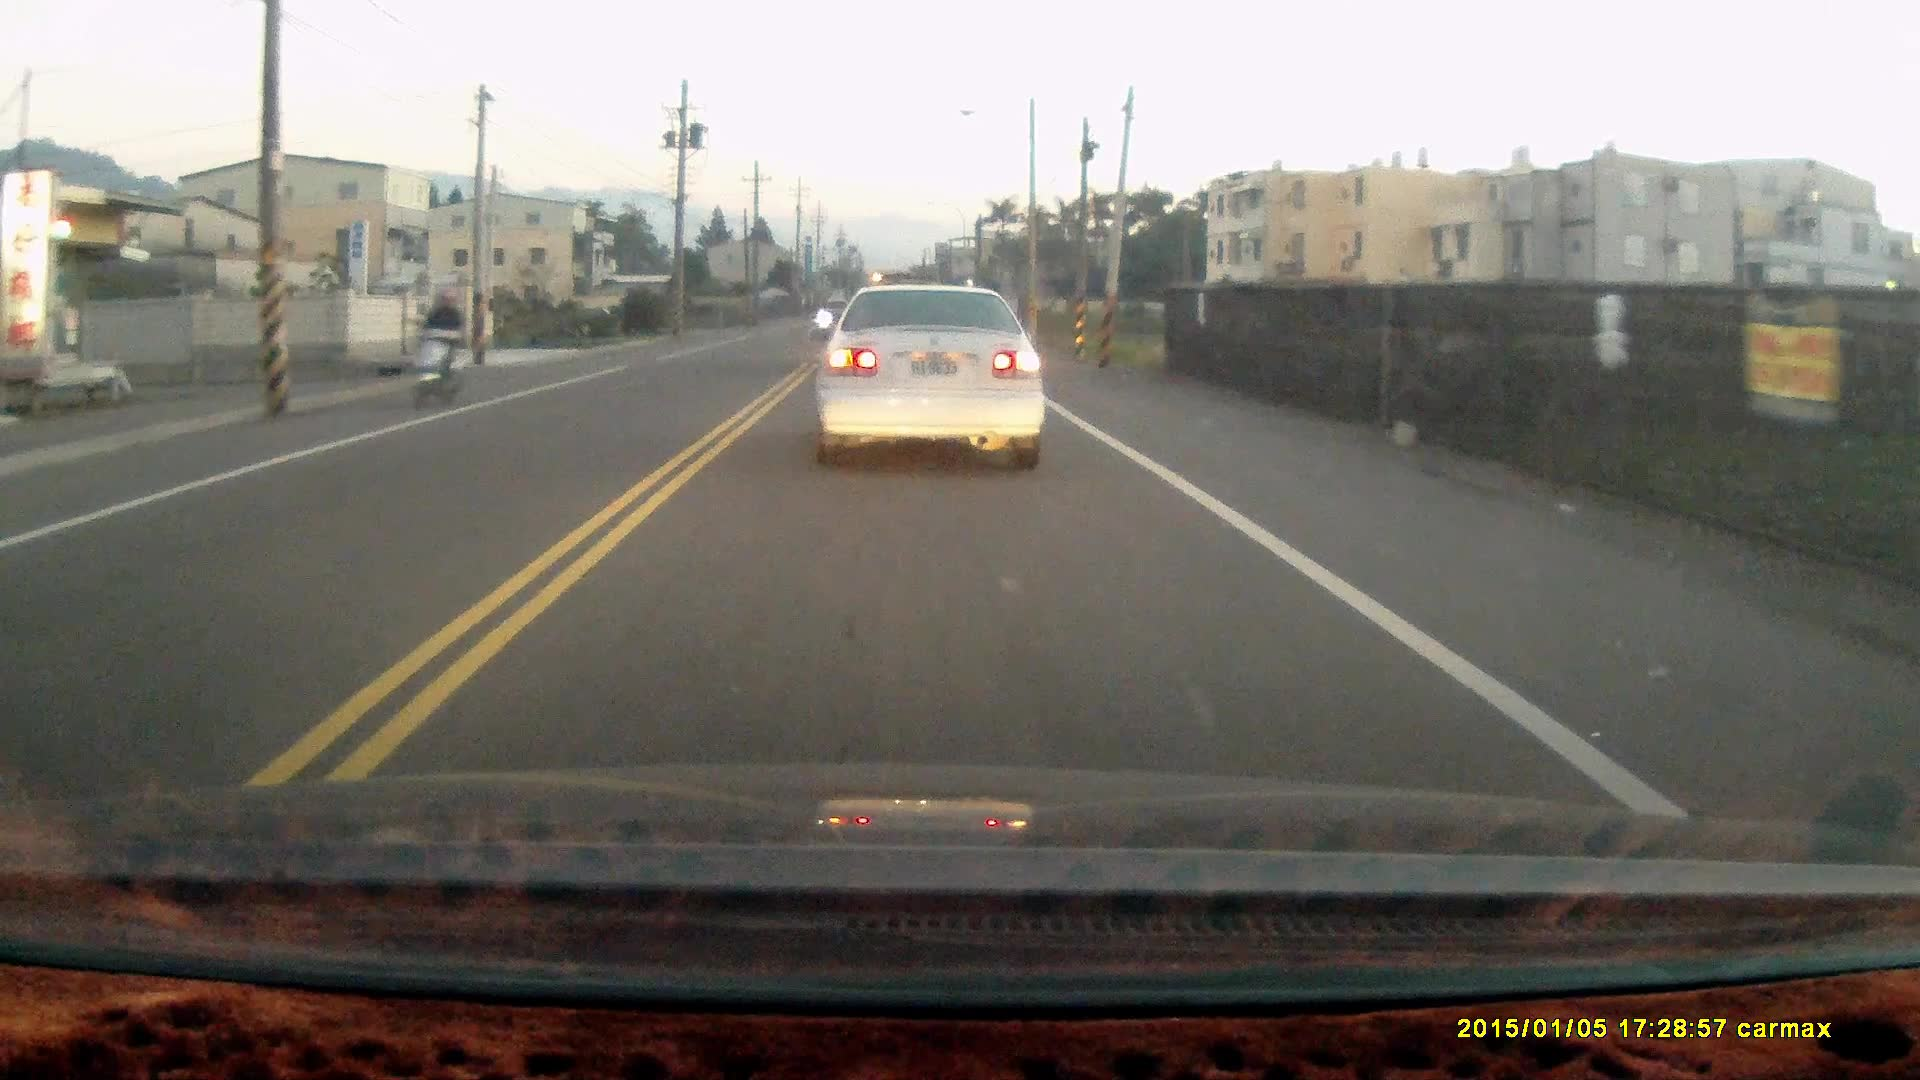rider: (404, 283, 469, 414)
vehicle: (808, 279, 1044, 469)
